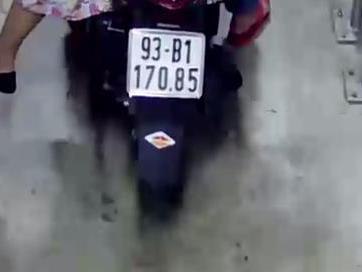num_plate: (127, 27, 204, 100)
